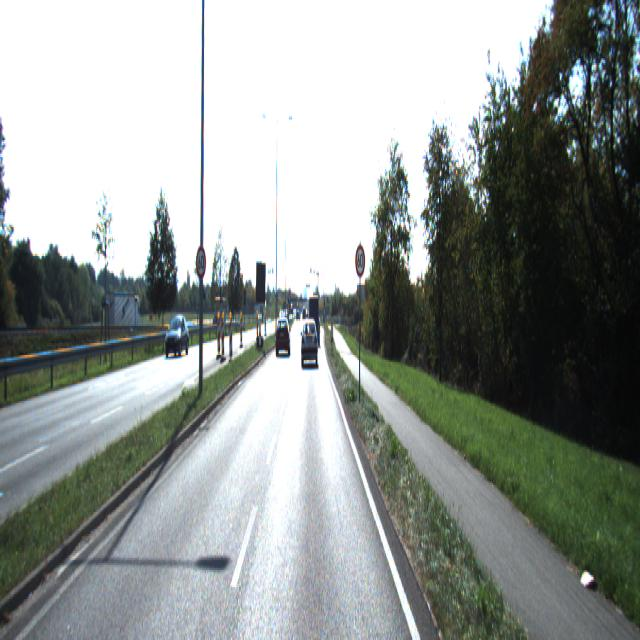Car: (165, 316, 188, 358), (301, 321, 318, 367), (275, 320, 291, 359), (308, 294, 320, 344)
